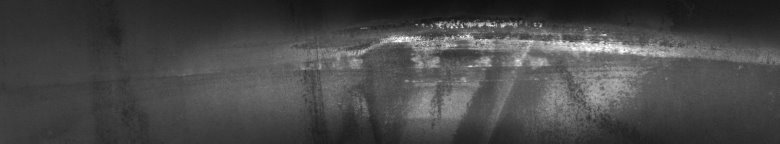ke: (301, 16, 685, 120)
